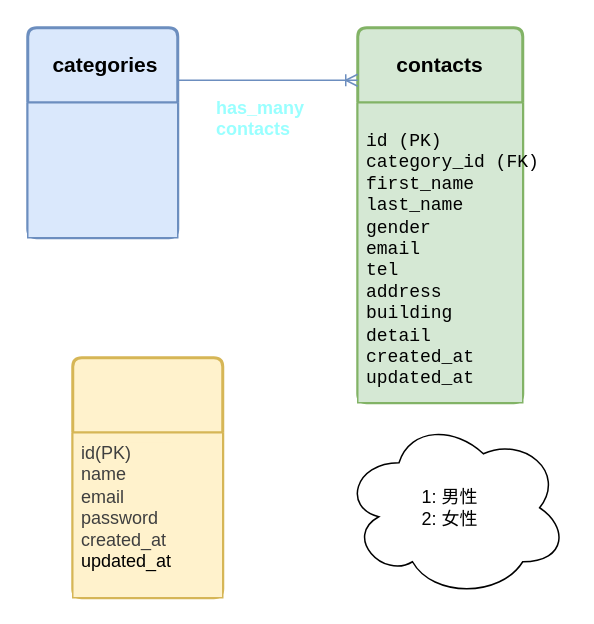
Image size: 594x624. Some labels were removed from this diagram. Each missing label, with the box of its shape:
id (PK) content created_at updated_at: (26, 101, 178, 238)
users: (70, 356, 224, 598)
